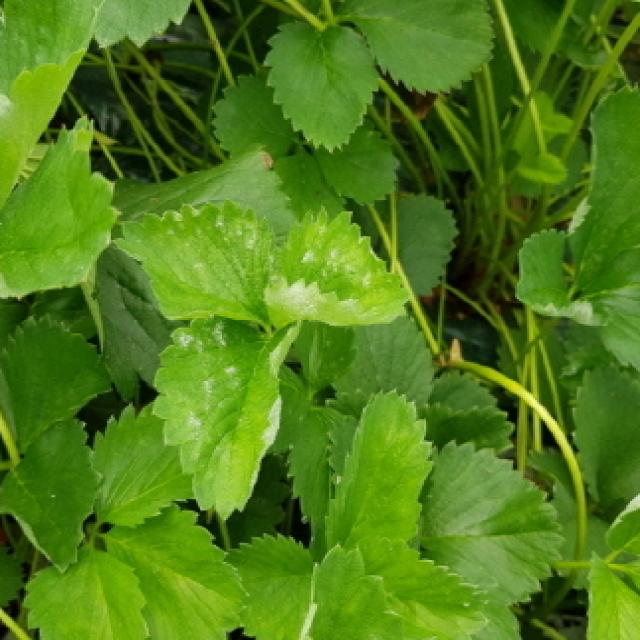Powdery Mildew Leaf: (151, 317, 304, 522), (110, 202, 287, 330), (265, 204, 410, 326), (296, 540, 405, 640), (511, 229, 605, 329)
